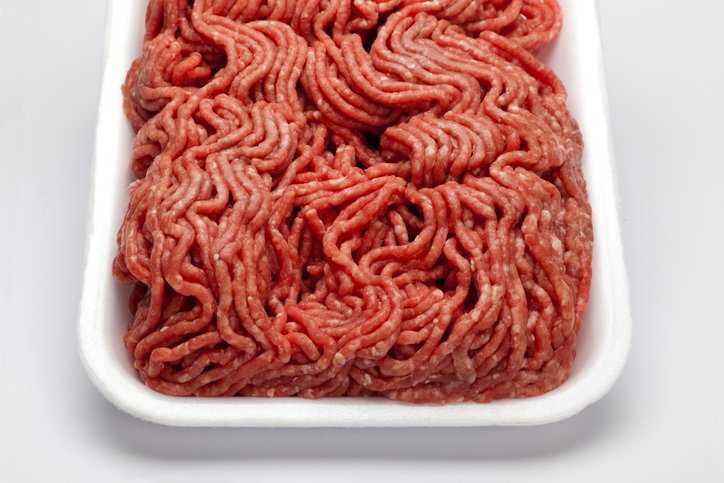ground_beef: (132, 2, 563, 389)
